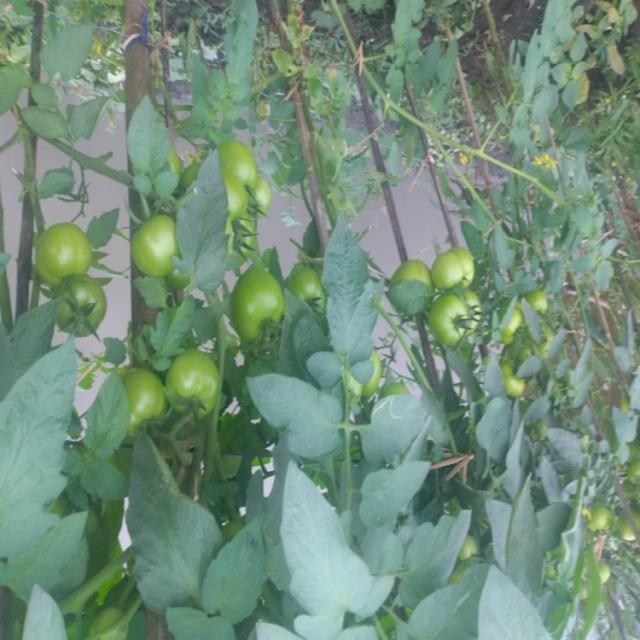tomato: (231, 256, 300, 349), (131, 205, 196, 284), (29, 222, 97, 283), (52, 268, 114, 334), (161, 355, 219, 422), (423, 289, 481, 343), (117, 367, 163, 428), (290, 258, 332, 318), (218, 135, 263, 185), (433, 246, 476, 296), (238, 173, 278, 226), (520, 276, 561, 324), (390, 258, 441, 292), (503, 365, 529, 406), (500, 302, 519, 350), (592, 503, 615, 529)
